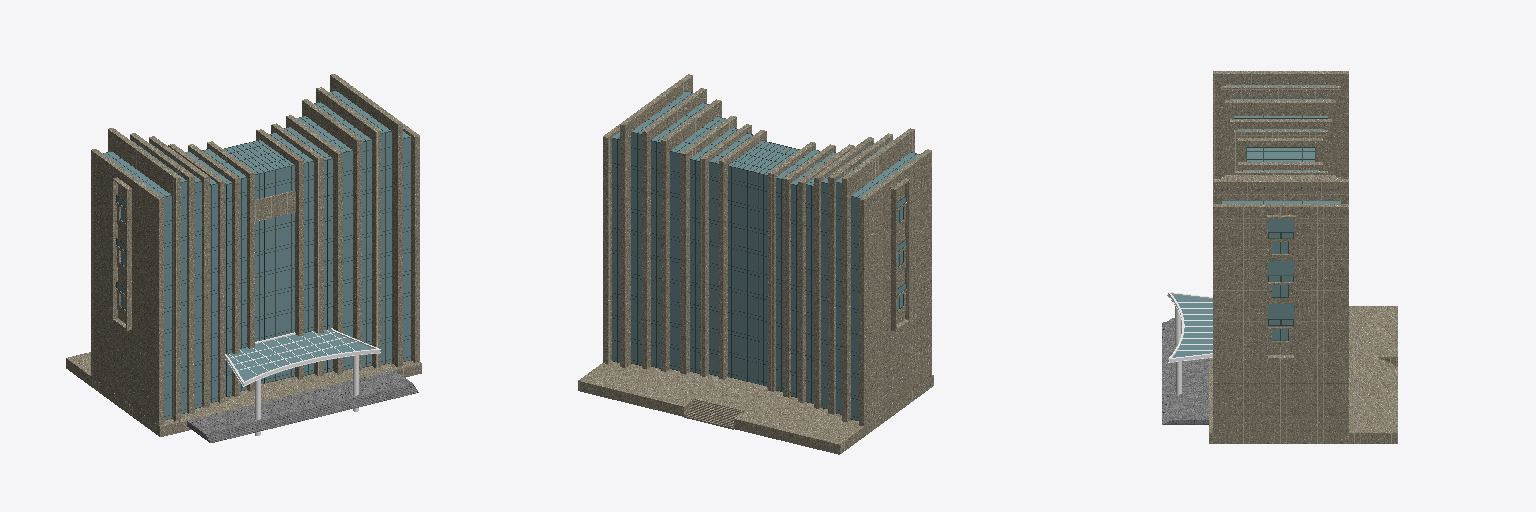
3 renders of one model, left to right at view 1: azimuth 30°, elevation 25°; view 2: azimuth 150°, elevation 25°; view 3: azimuth 270°, elevation 25°, orthographic.
Parts seen in each view (by area): view 1: Rectangle103, Rectangle95, Rectangle190, Rectangle207, Rectangle137, Rectangle96, Rectangle36, Rectangle66, Rectangle67, Arc02, Rectangle90, Rectangle68 (+22 smaller); view 2: Rectangle103, Rectangle190, Rectangle95, Rectangle207, Rectangle96, Rectangle36, Rectangle66, Rectangle67, Rectangle68, Rectangle90, Rectangle97, Rectangle92 (+18 smaller); view 3: Rectangle84, Rectangle190, Rectangle96, Rectangle36, Rectangle98, Rectangle97, Rectangle137, Arc02, Rectangle99, Rectangle131, Rectangle100, Rectangle124 (+3 smaller).
Part boxes in pixels (left/top/right/bottom): Rectangle103: left=91, top=149, right=163, bottom=425; Rectangle95: left=224, top=140, right=294, bottom=383; Rectangle190: left=66, top=352, right=421, bottom=436; Rectangle207: left=103, top=90, right=410, bottom=419; Rectangle137: left=187, top=370, right=412, bottom=434; Rectangle96: left=108, top=128, right=180, bottom=421; Rectangle36: left=330, top=74, right=402, bottom=366; Rectangle66: left=316, top=87, right=380, bottom=368; Rectangle67: left=302, top=99, right=361, bottom=370; Arc02: left=226, top=329, right=372, bottom=381; Rectangle90: left=329, top=91, right=391, bottom=364; Rectangle68: left=286, top=115, right=342, bottom=373; Rectangle103: left=859, top=149, right=931, bottom=425; Rectangle190: left=578, top=361, right=933, bottom=454; Rectangle95: left=728, top=141, right=798, bottom=385; Rectangle207: left=612, top=91, right=919, bottom=420; Rectangle96: left=842, top=128, right=914, bottom=421; Rectangle36: left=620, top=74, right=692, bottom=367; Rectangle66: left=642, top=88, right=706, bottom=368; Rectangle67: left=661, top=99, right=721, bottom=371; Rectangle68: left=680, top=116, right=736, bottom=374; Rectangle90: left=631, top=92, right=693, bottom=365; Rectangle97: left=828, top=133, right=892, bottom=414; Rectangle92: left=670, top=117, right=725, bottom=370; Rectangle84: left=1213, top=204, right=1348, bottom=432; Rectangle190: left=1209, top=306, right=1397, bottom=443; Rectangle96: left=1213, top=71, right=1348, bottom=178; Rectangle36: left=1213, top=179, right=1348, bottom=203; Rectangle98: left=1225, top=100, right=1335, bottom=174; Rectangle97: left=1221, top=86, right=1340, bottom=176; Rectangle137: left=1172, top=318, right=1208, bottom=420; Arc02: left=1172, top=294, right=1212, bottom=357; Rectangle99: left=1230, top=119, right=1331, bottom=174; Rectangle131: left=1268, top=219, right=1293, bottom=318; Rectangle100: left=1234, top=130, right=1327, bottom=170; Rectangle124: left=1238, top=138, right=1322, bottom=161.
Bounding box in the file's own units: 5501 × 5020 × 4157.
6 materials, 2 textured.